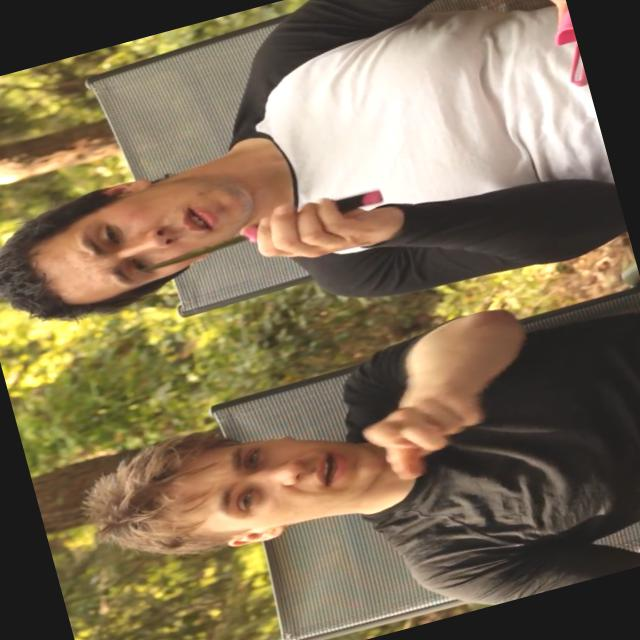knife: (111, 173, 399, 297)
